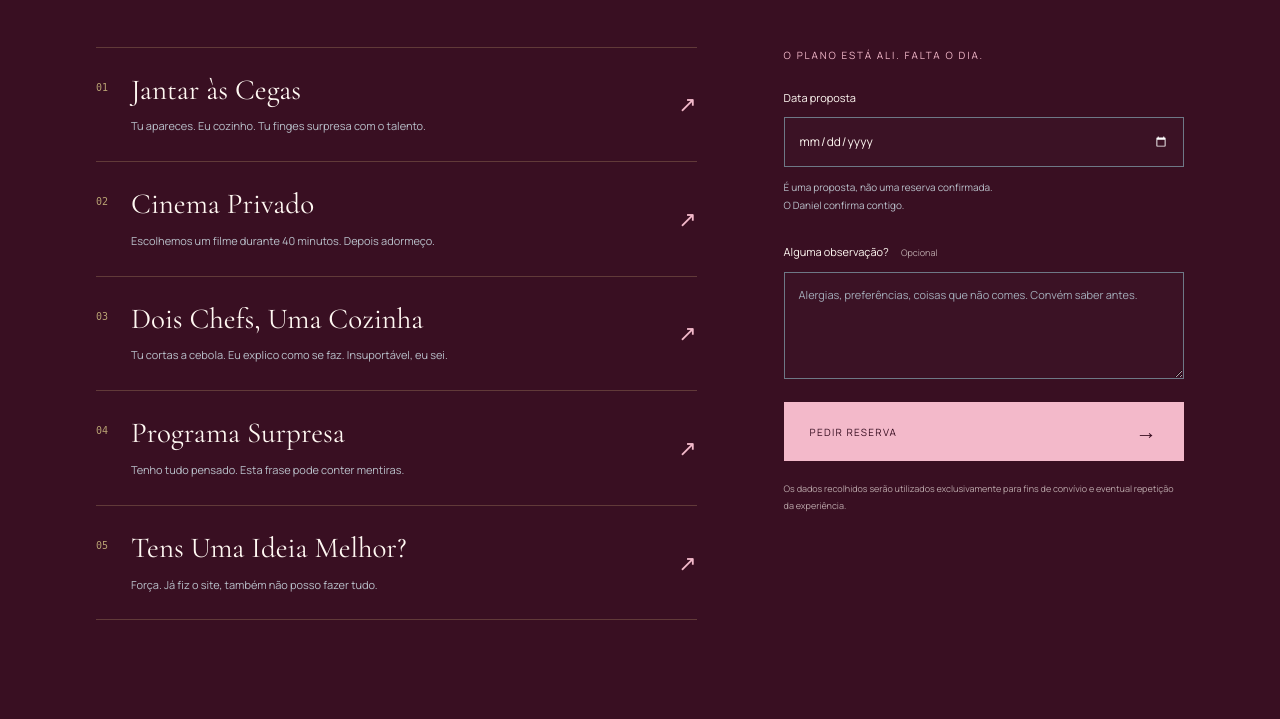
reservas e secretaria › não envia uma ideia vazia nem uma data passada
(page scrolled)
Click the radio button labelled "Tens Uma Ideia Melhor".
click(396, 563)  # box [96,505,697,620]
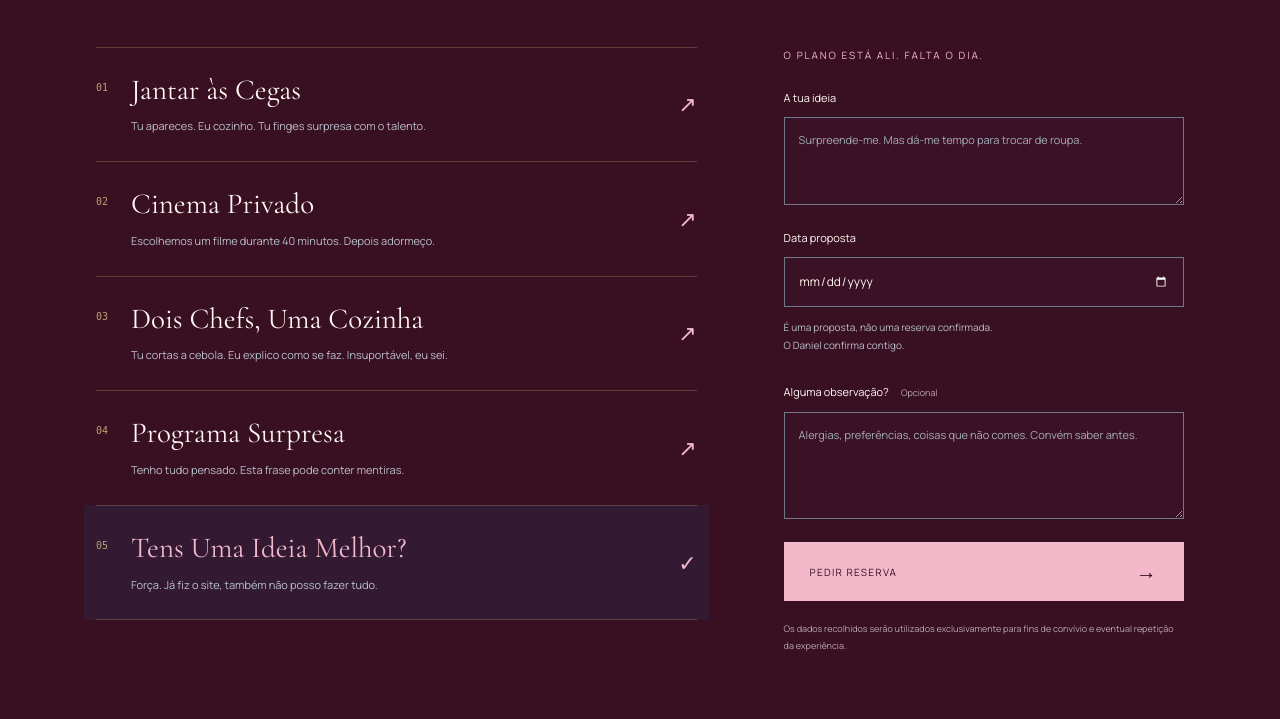
Submit the form named "Pedir reserva"
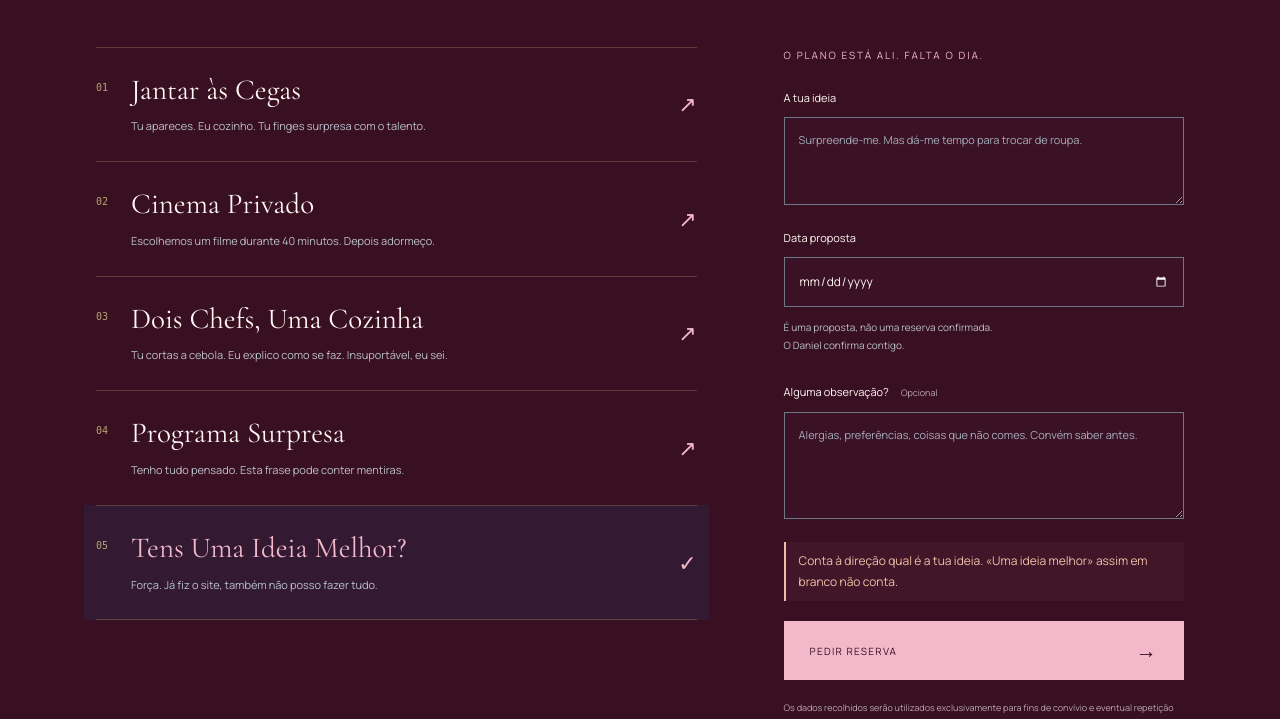
Check: the message shows "Conta à direção", box [799,552,1148,590]
